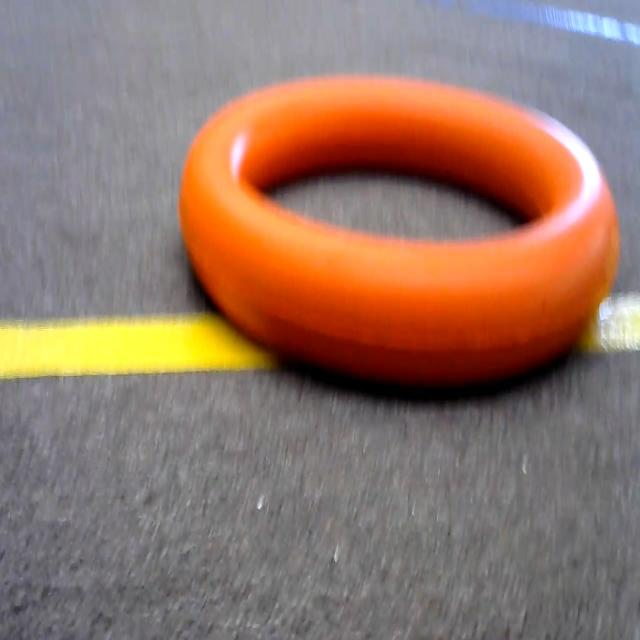note: (170, 61, 640, 401)
